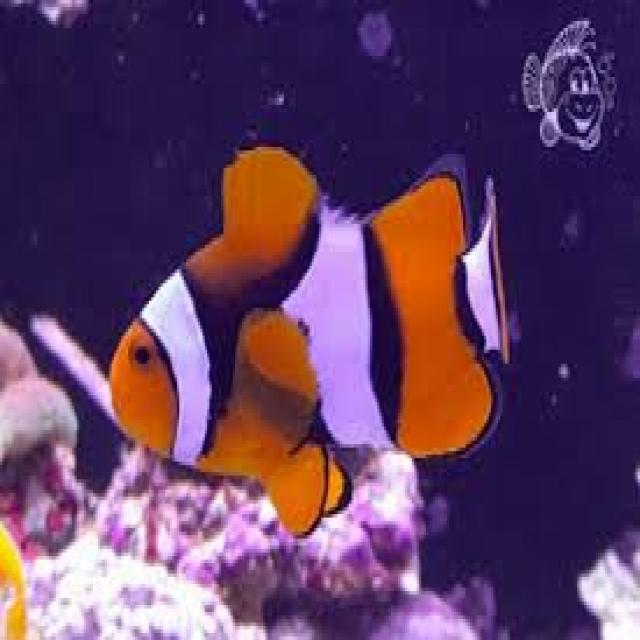ClownFish: (106, 138, 513, 532)
